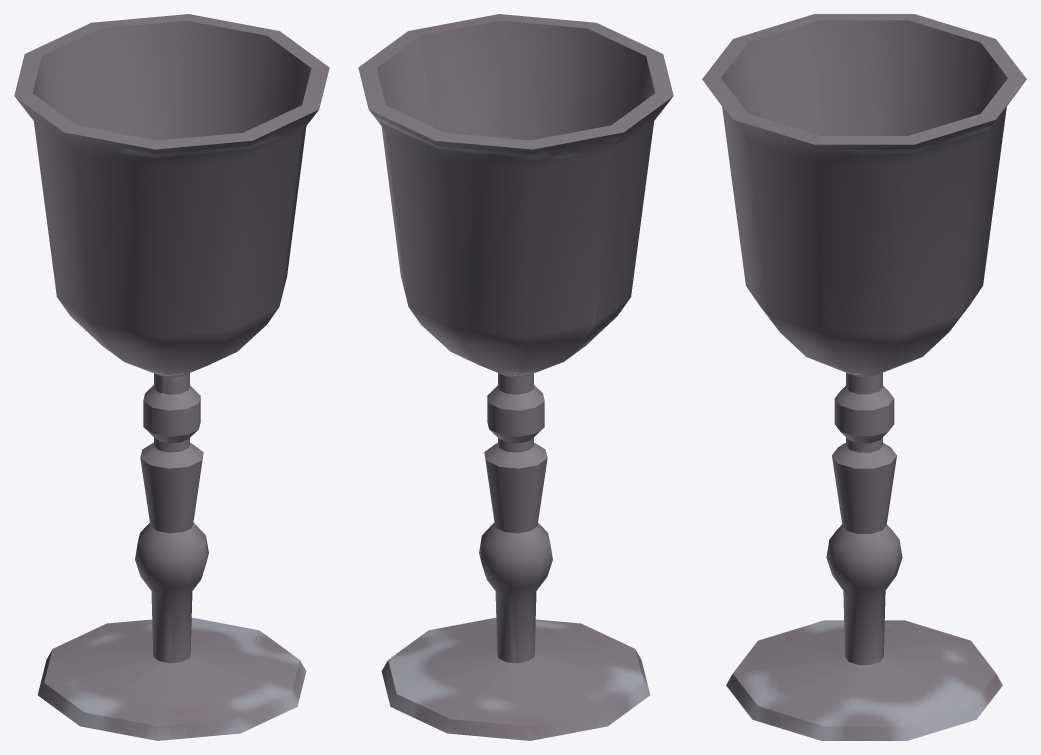
Rendered from Chalice.gltf.
3 views of the same model, side by side, from view 1: azimuth 30°, elevation 25°; view 2: azimuth 150°, elevation 25°; view 3: azimuth 270°, elevation 25° (orthographic).
Parts seen in each view (by area): view 1: Chalice; view 2: Chalice; view 3: Chalice.
Boxes of the visible parts, x1,y1,x2,y2 form: Chalice: (14, 14, 329, 740); Chalice: (358, 14, 673, 740); Chalice: (702, 14, 1026, 740).
Bounding box in the file's own units: 0.1184 × 0.2567 × 0.1245.
1 material, 1 textured.
